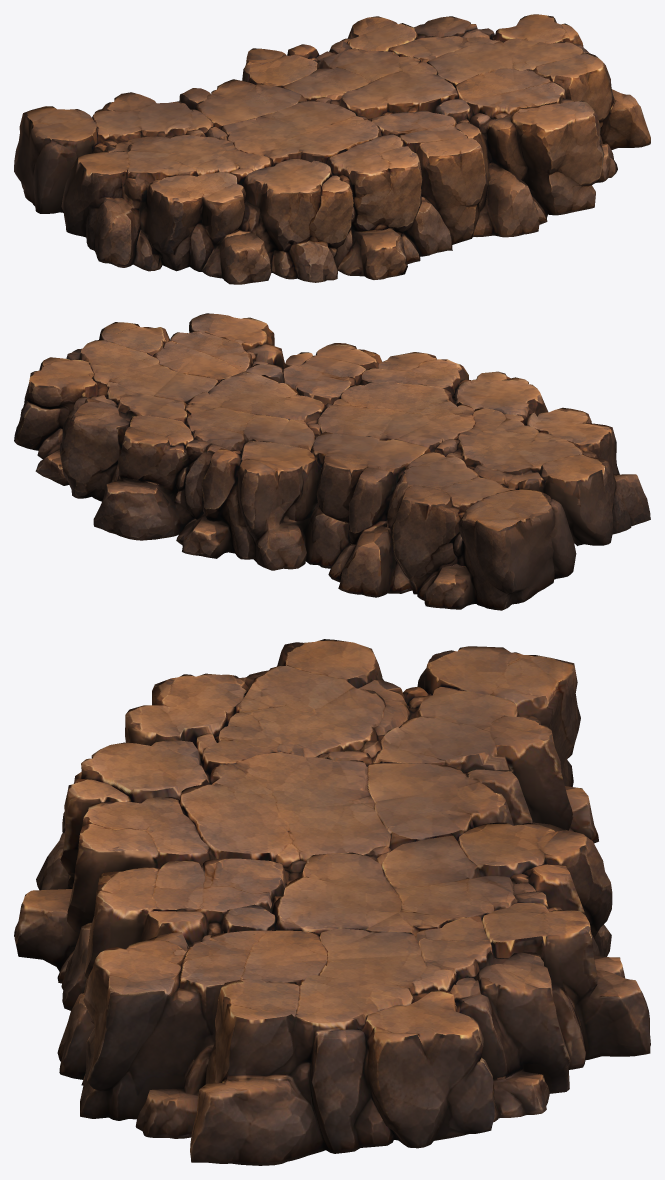
Rendered from rocky+stone+platform+3d+model.fbx.
3 views of the same model, one above another, from view 1: azimuth 30°, elevation 25°; view 2: azimuth 150°, elevation 25°; view 3: azimuth 270°, elevation 25° (orthographic). The views are drawn at different scales.
Parts seen in each view (by area): view 1: tripo_26c2ea67_7737_4fe9_b51d_df38bfc68d0a; view 2: tripo_26c2ea67_7737_4fe9_b51d_df38bfc68d0a; view 3: tripo_26c2ea67_7737_4fe9_b51d_df38bfc68d0a.
Part boxes in pixels (left/top/right/bottom): tripo_26c2ea67_7737_4fe9_b51d_df38bfc68d0a: left=14, top=14, right=650, bottom=284; tripo_26c2ea67_7737_4fe9_b51d_df38bfc68d0a: left=14, top=313, right=650, bottom=610; tripo_26c2ea67_7737_4fe9_b51d_df38bfc68d0a: left=14, top=639, right=650, bottom=1165.
Size of the model in its own units: 0.9995 by 0.1714 by 0.6362.
